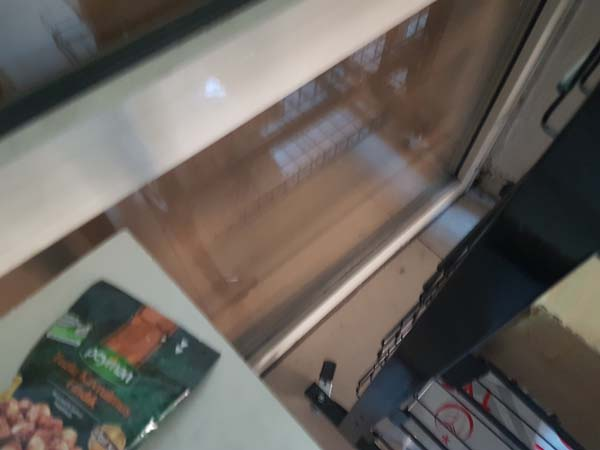peysankavrulmusfindik: (5, 277, 221, 450)
